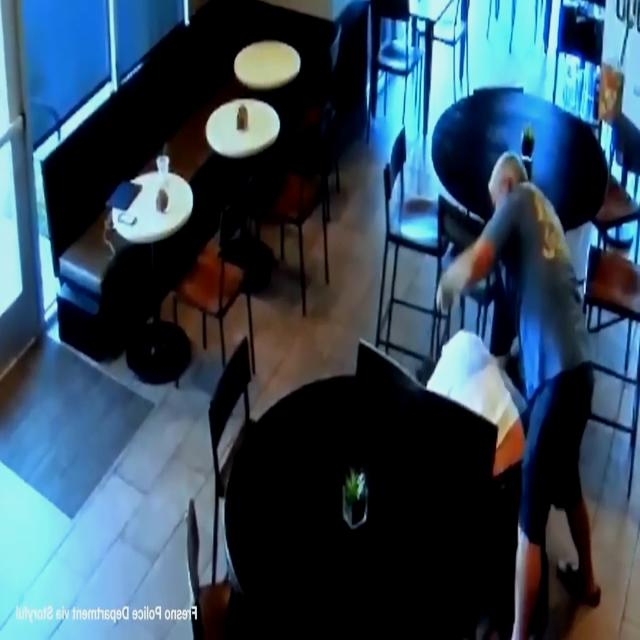fight: (428, 150, 604, 640)
